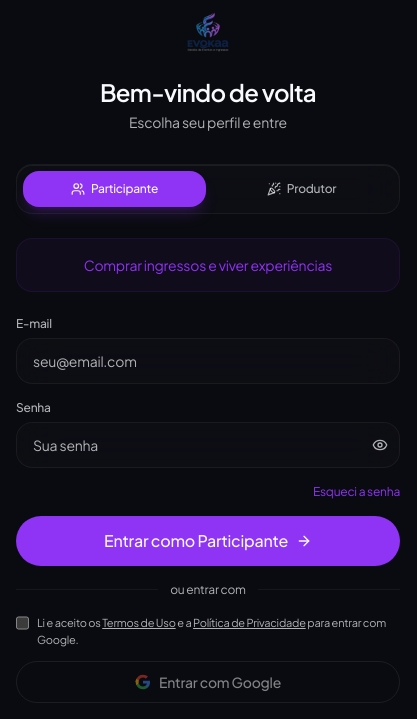
Test: Login Component › deve mostrar erro quando campos estão vazios
Click the button "Entrar como Participante": (208, 541) [16,516,400,566]
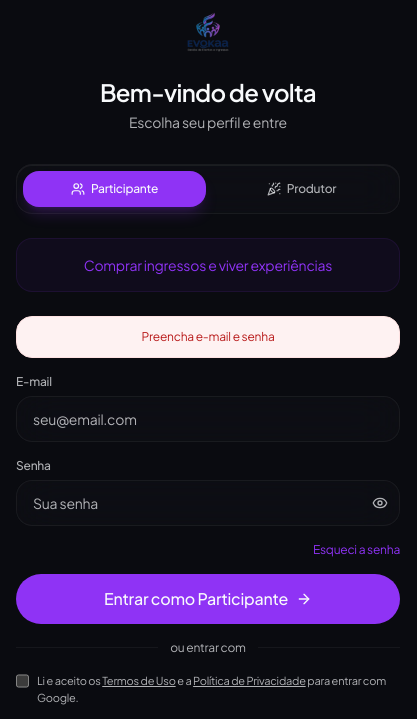
Expected: the text "Preencha e-mail e senha" is shown, [16,316,400,358]
